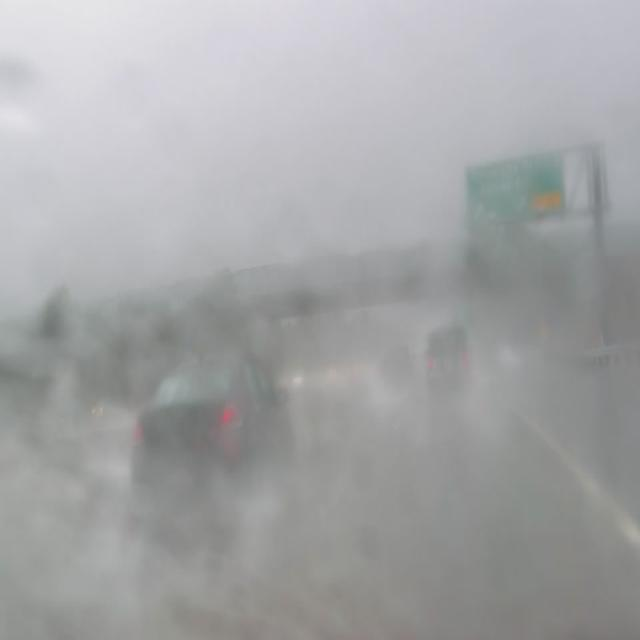car: (126, 360, 276, 486), (424, 327, 468, 390), (376, 342, 408, 388)
